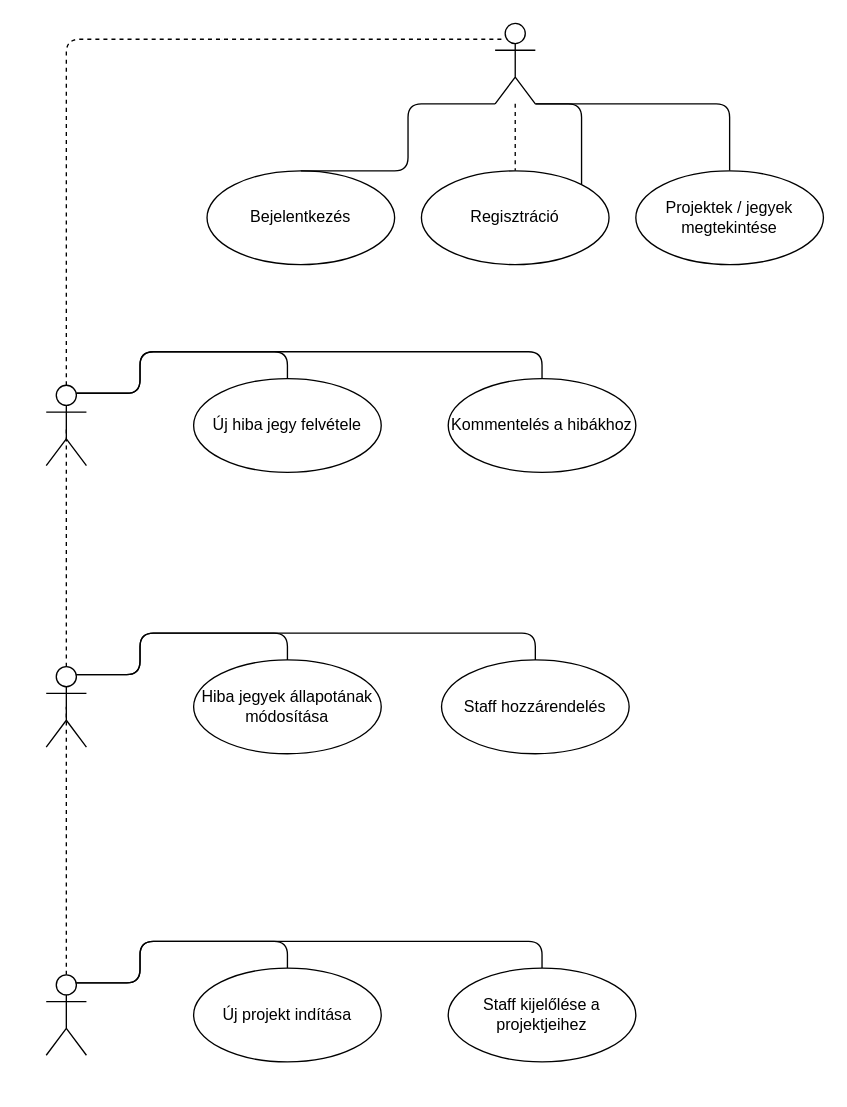
The diagram is 847 pixels wide and 1107 high, and some of its shapes have lost their labels. Each missing label, with the centre of its shape:
"Admin" goes at point (65, 1014).
"Felhasználó" goes at point (65, 425).
"Staff" goes at point (65, 706).
"Vendég" goes at point (514, 63).
